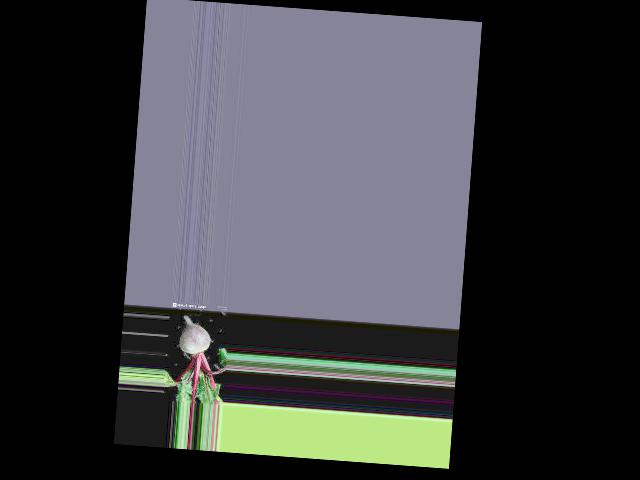beet: (163, 314, 230, 405)
